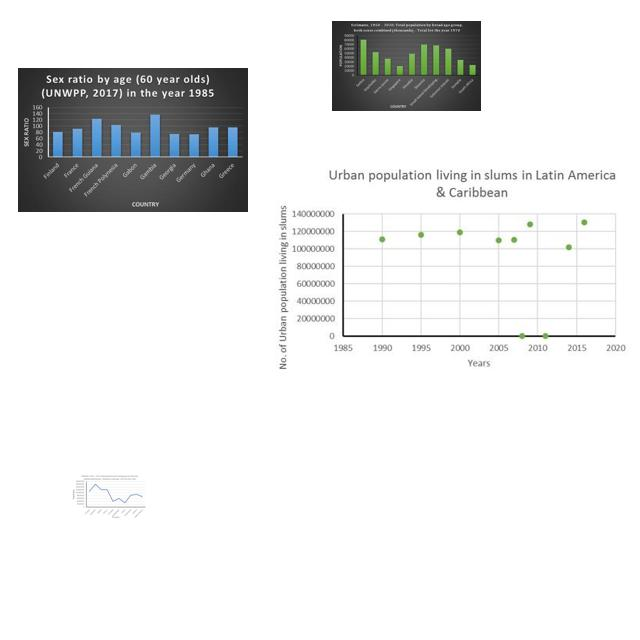Graph: (269, 163, 630, 375), (18, 68, 248, 212), (332, 21, 481, 111), (72, 474, 147, 519)
